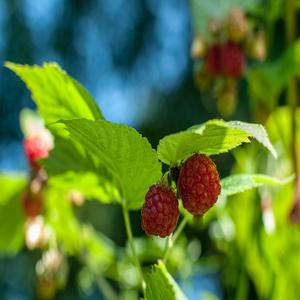raspb: (138, 150, 236, 235)
